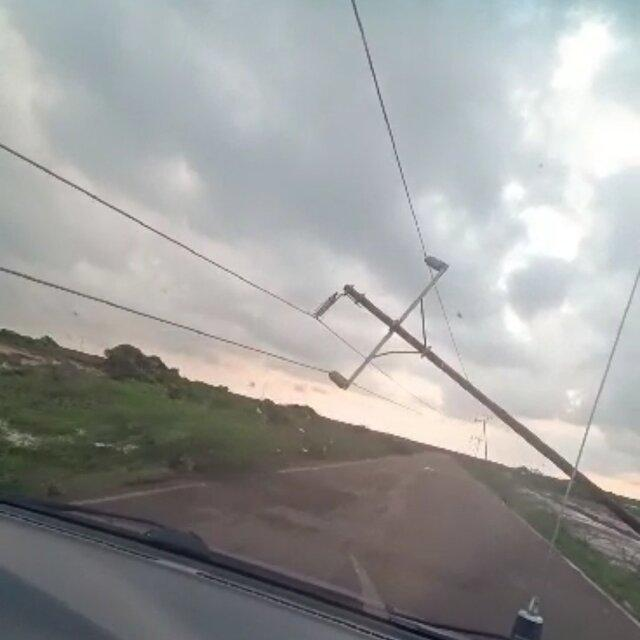Inclined Pole: (312, 251, 640, 536)
